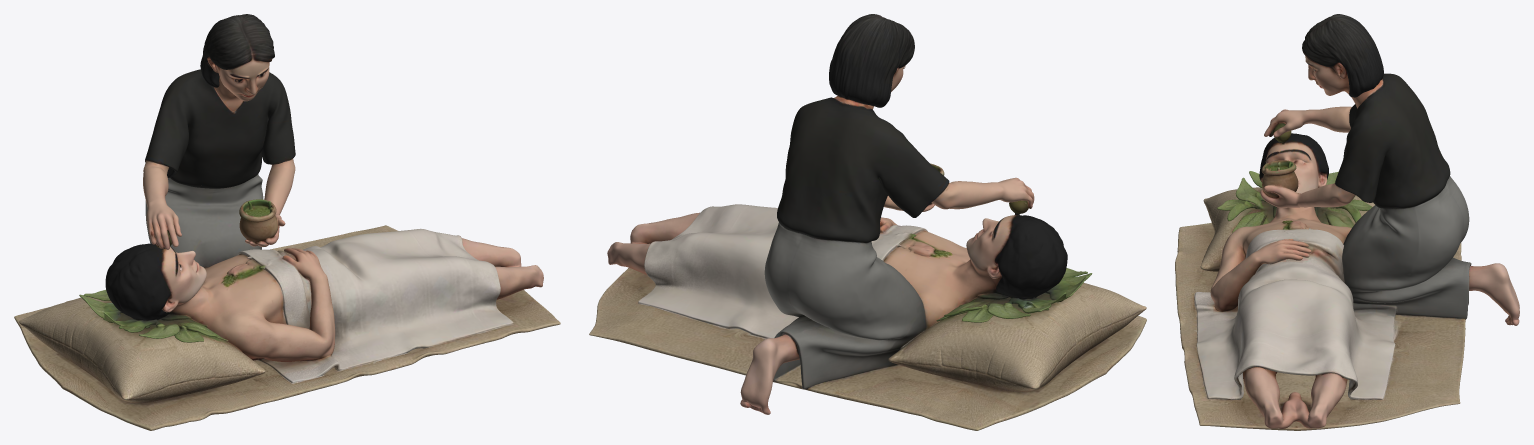
File: 64-la-pandemia-de-la-viruelita-optimized.glb
3 views of the same model, side by side, from view 1: azimuth 30°, elevation 25°; view 2: azimuth 150°, elevation 25°; view 3: azimuth 270°, elevation 25° (orthographic). The views are drawn at different scales.
Parts seen in each view (by area): view 1: tripo_node_71b85909-c7e1-4be2-9790-a86d2fd29b11; view 2: tripo_node_71b85909-c7e1-4be2-9790-a86d2fd29b11; view 3: tripo_node_71b85909-c7e1-4be2-9790-a86d2fd29b11.
Boxes of the visible parts, x1,y1,x2,y2 form: tripo_node_71b85909-c7e1-4be2-9790-a86d2fd29b11: [14, 14, 560, 430]; tripo_node_71b85909-c7e1-4be2-9790-a86d2fd29b11: [589, 14, 1146, 430]; tripo_node_71b85909-c7e1-4be2-9790-a86d2fd29b11: [1175, 14, 1519, 430].
Bounding box in the file's own units: 1 × 0.6479 × 0.6814.
1 material, 1 textured.
